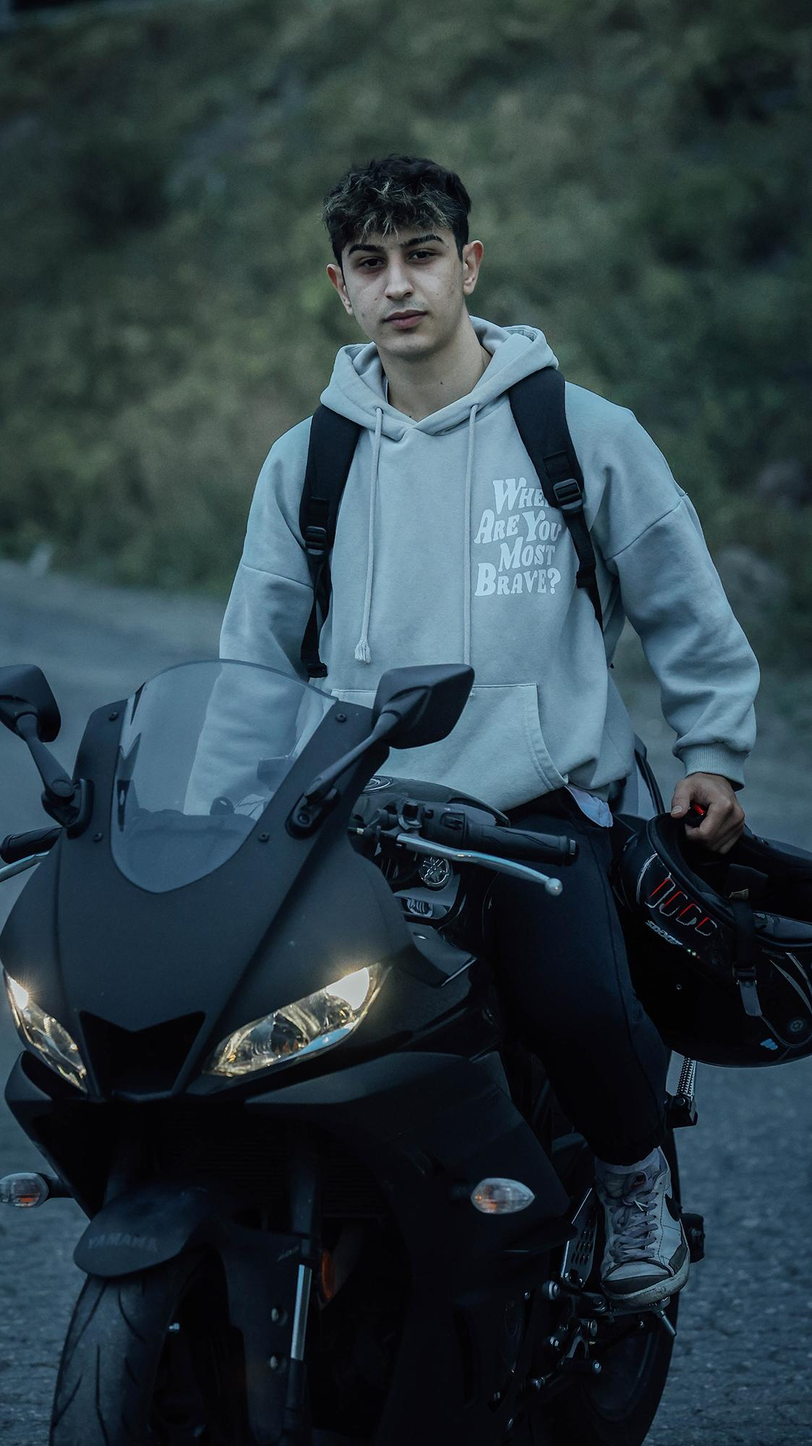helmet: (607, 796, 812, 1071)
nohelmet: (319, 150, 487, 385)
